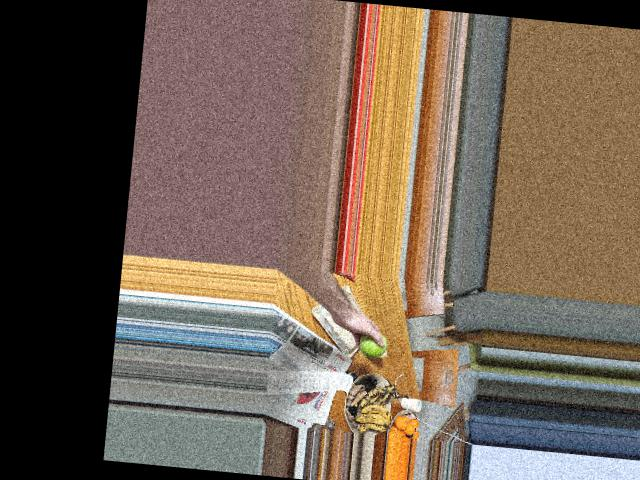apple: (355, 327, 389, 359)
